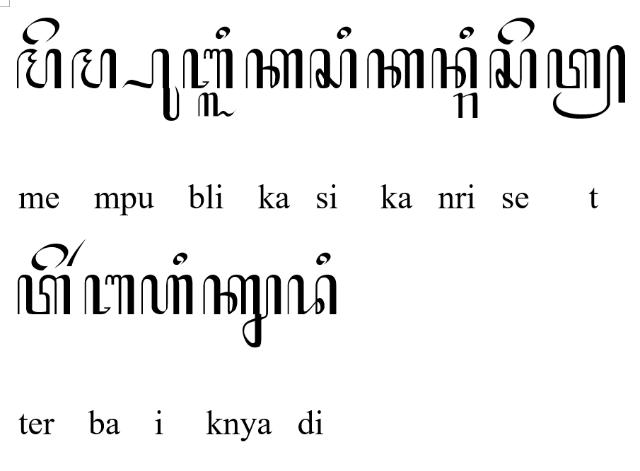-t: (546, 44, 626, 120)
_l: (197, 92, 236, 118)
_pu: (121, 48, 180, 122)
_r1: (66, 238, 86, 268)
b: (82, 274, 136, 316), (182, 48, 234, 88)
d: (286, 274, 338, 316)
e: (21, 16, 60, 46), (30, 242, 68, 272), (496, 17, 536, 45)
h: (140, 274, 194, 316)
i: (215, 24, 231, 40), (459, 26, 475, 40), (172, 251, 188, 265), (316, 252, 332, 266), (338, 26, 352, 40)
k: (366, 48, 426, 90), (245, 48, 303, 90)
kny: (202, 274, 282, 348)
m: (70, 48, 118, 90), (16, 48, 62, 88)
n: (430, 46, 478, 90)
r: (452, 92, 480, 120)
s: (308, 48, 358, 90), (488, 48, 538, 90)
t: (17, 274, 72, 316)
